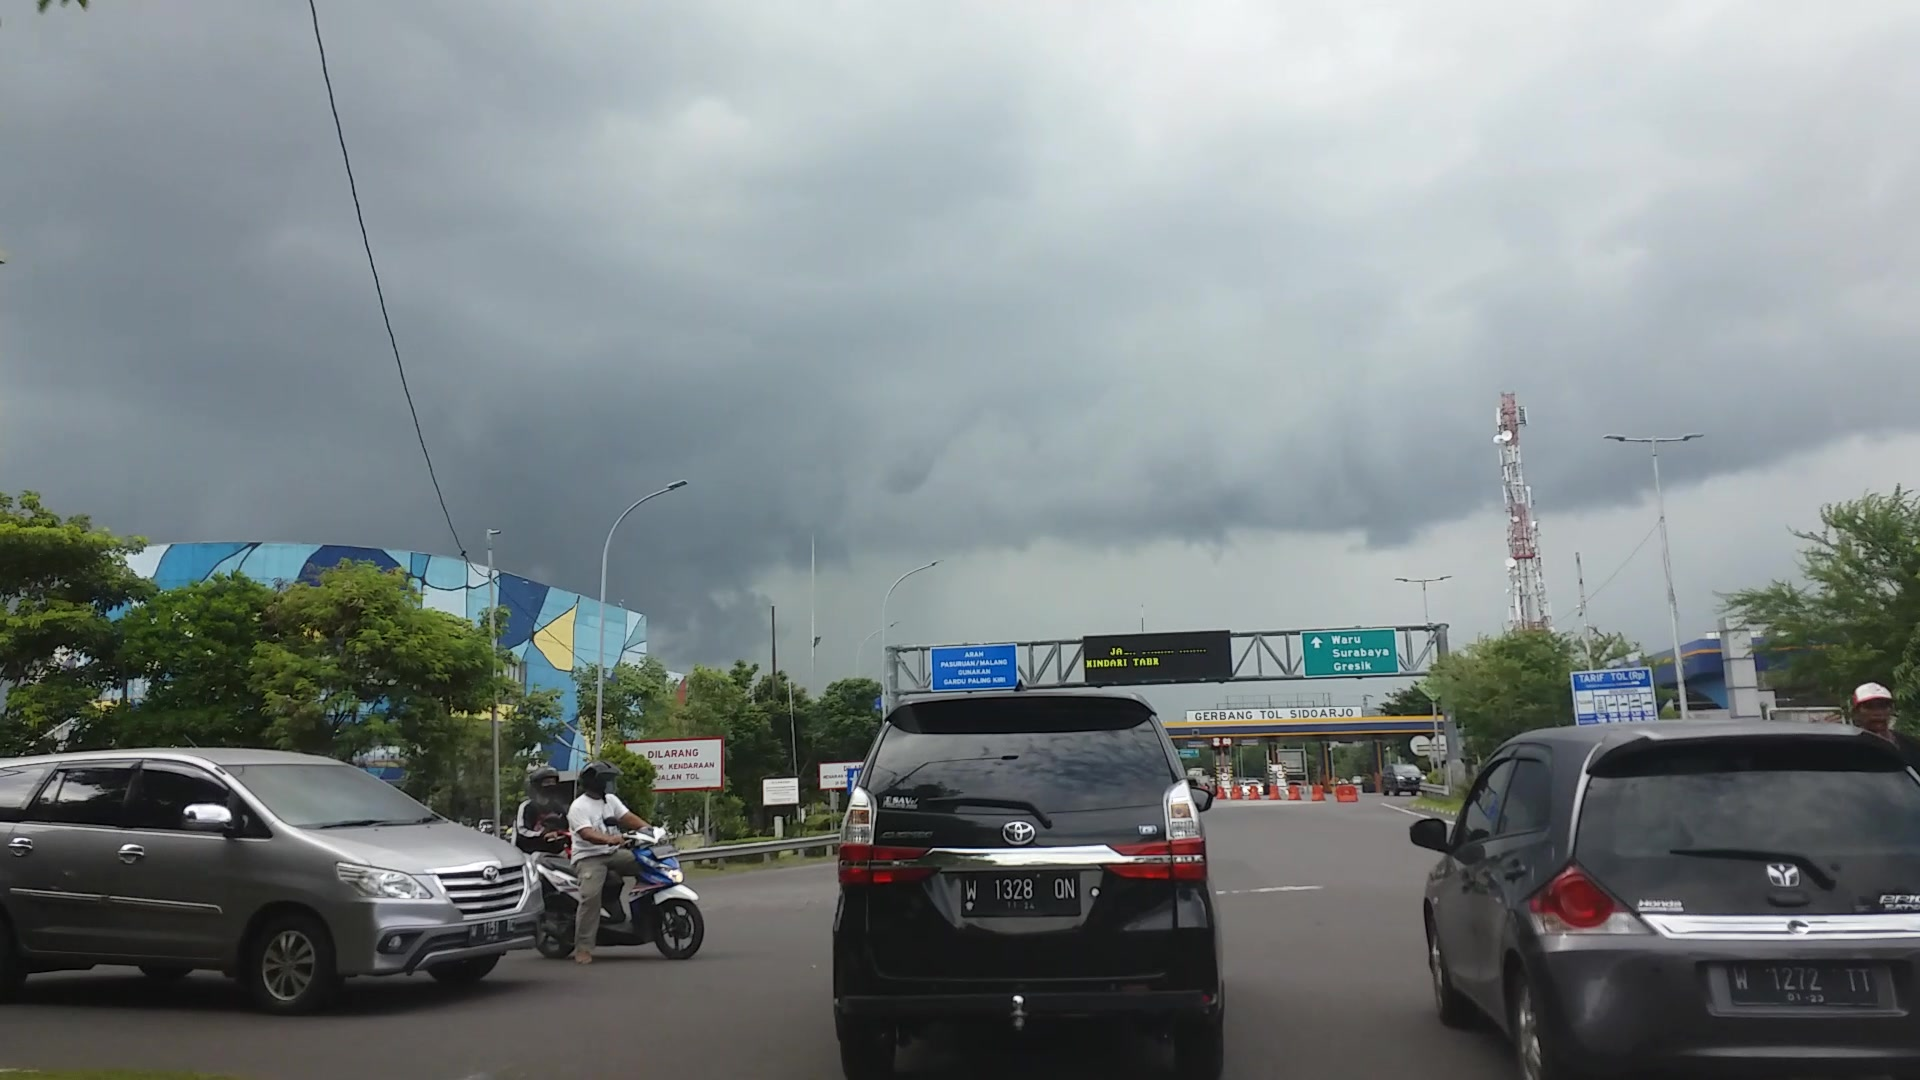plate_positive: (1729, 961, 1878, 1007), (961, 872, 1083, 916)
